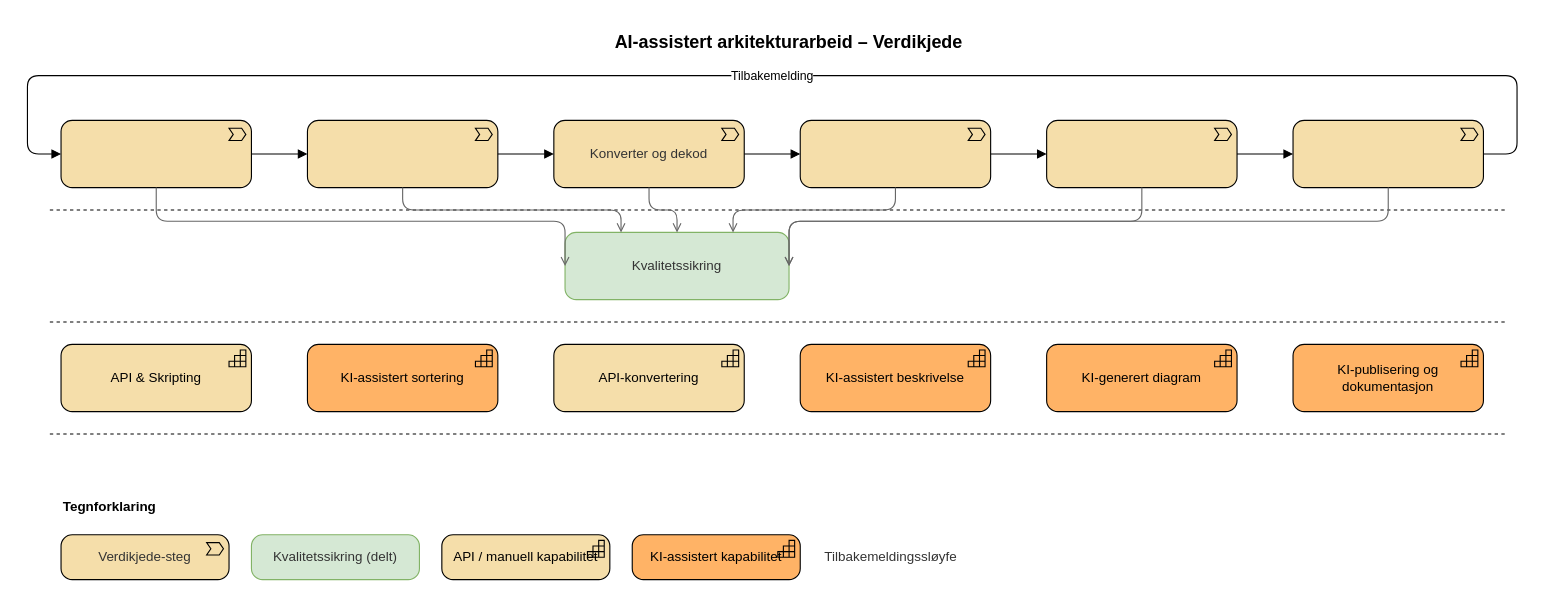
The diagram is 1546 pixels wide and 599 high, and some of its shapes have lost their labels. Each missing label, with the box of its shape:
Beskriv diagram: (799, 119, 991, 188)
Hent inndata: (60, 119, 251, 188)
Lag diagram: (1046, 119, 1237, 188)
Organiser inndata: (306, 119, 498, 188)
Publiser og dokumenter: (1292, 119, 1483, 188)
